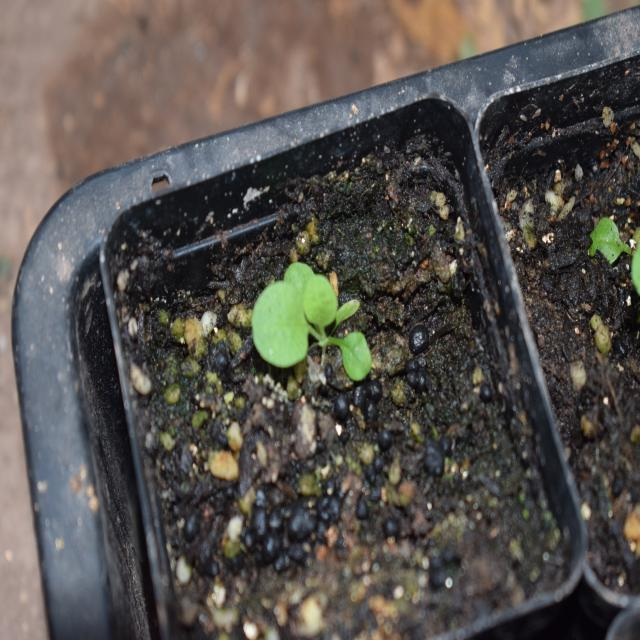Shepherd_Purse: (247, 271, 373, 403)
